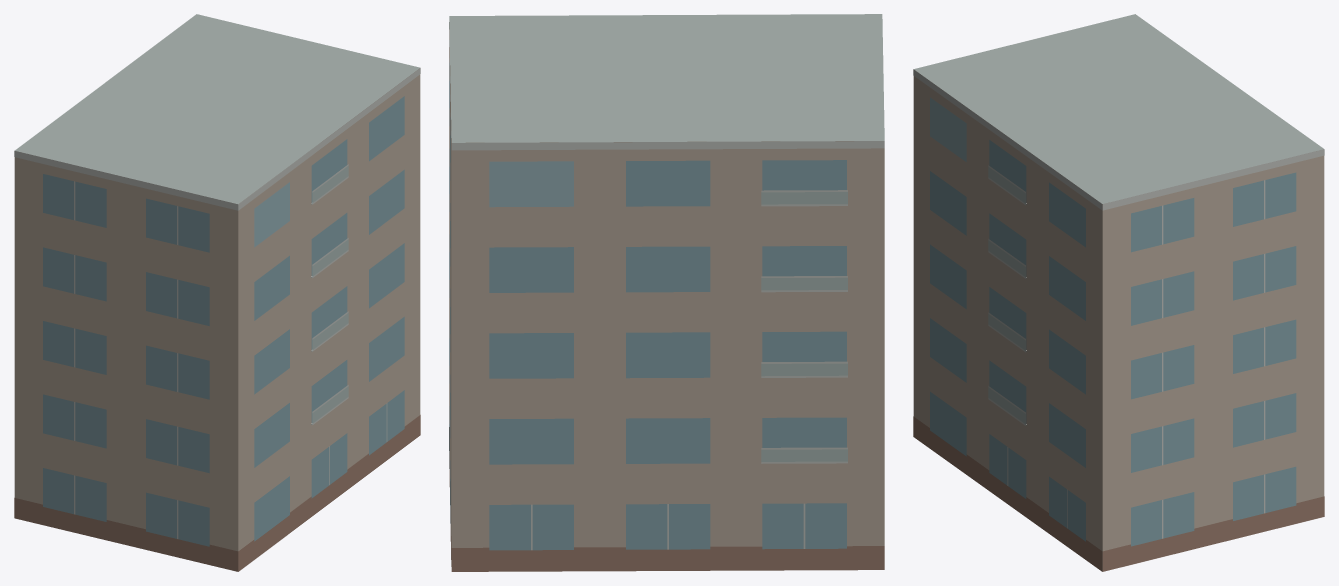
File: survey-upis-32901171.glb
The picture shows the model from 3 angles, left to right: view 1: azimuth 30°, elevation 25°; view 2: azimuth 150°, elevation 25°; view 3: azimuth 270°, elevation 25°; orthographic projection. The views are drawn at different scales.
Parts seen in each view (by area): view 1: survey-upis-32901171.tmp; view 2: survey-upis-32901171.tmp; view 3: survey-upis-32901171.tmp.
Part boxes in pixels (left/top/right/bottom): survey-upis-32901171.tmp: left=14, top=14, right=420, bottom=571; survey-upis-32901171.tmp: left=449, top=14, right=884, bottom=571; survey-upis-32901171.tmp: left=913, top=14, right=1324, bottom=571.
Size of the model in its own units: 15.42 by 13.9 by 14.09.
